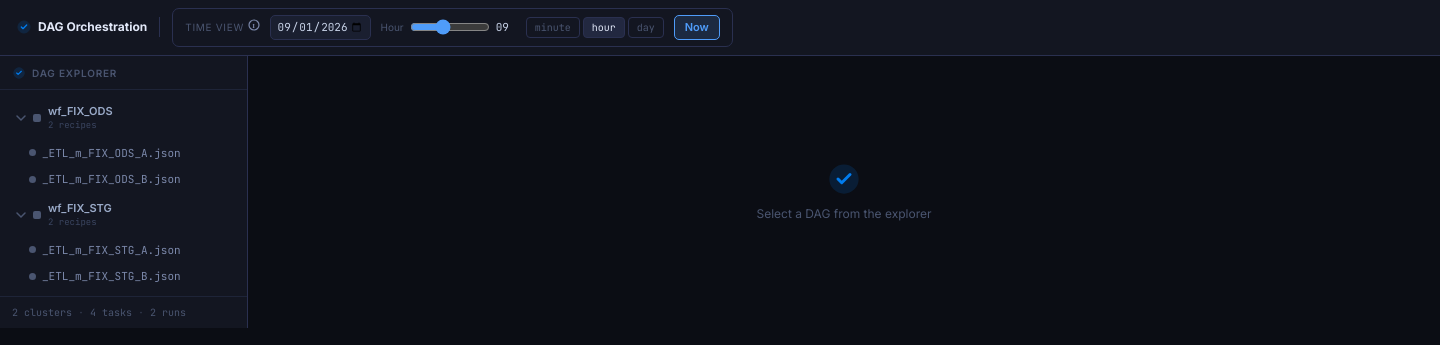
it: ETLDag — errors that used to read as "nothing ran" › distinguishes a date with no snapshot (404) from a snapshot that failed to load
What coordinates should you click on to do the following:
click the text "wf_FIX_ODS"
I would click on:
 (80, 110)
Its box is x1=48 y1=104 x2=113 y2=118.
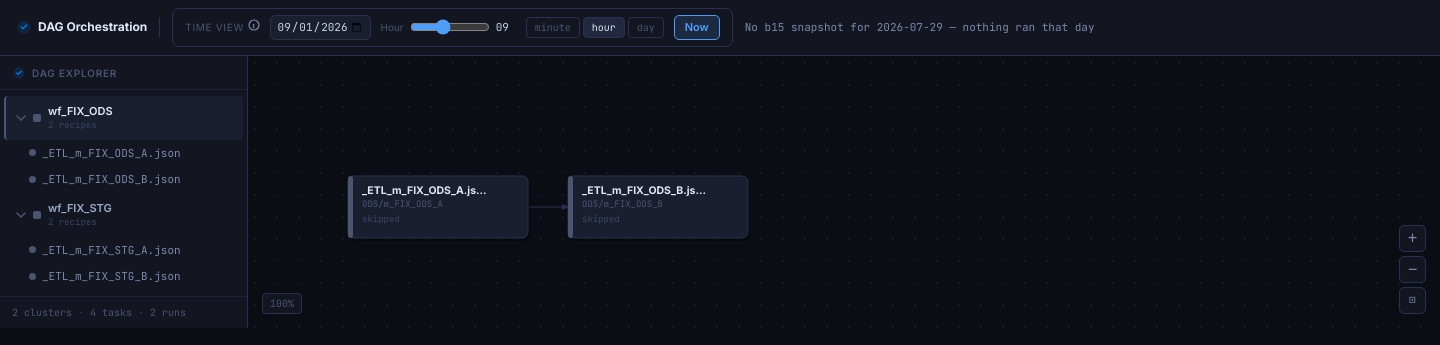
Expected: the text "No b15 snapshot for 2026-07-29 — nothing ran that day" is shown, x1=745 y1=19 x2=1095 y2=36
